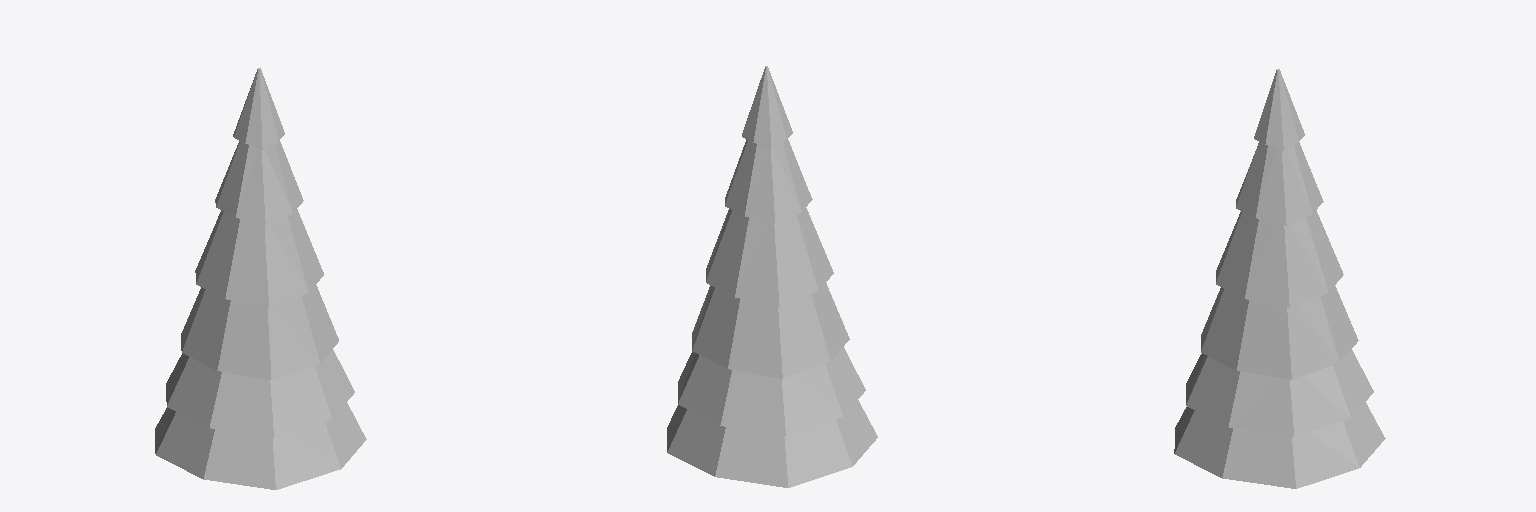
Rendered from toptree.obj.
The picture shows the model from 3 angles: view 1: azimuth 30°, elevation 25°; view 2: azimuth 150°, elevation 25°; view 3: azimuth 270°, elevation 25°; orthographic projection.
Parts seen in each view (by area): view 1: Cylinder.016_Cylinder.006; view 2: Cylinder.016_Cylinder.006; view 3: Cylinder.016_Cylinder.006.
Part boxes in pixels (bbox=[...]): Cylinder.016_Cylinder.006: bbox=[155, 68, 366, 489]; Cylinder.016_Cylinder.006: bbox=[667, 66, 877, 487]; Cylinder.016_Cylinder.006: bbox=[1174, 69, 1385, 488].
Size of the model in its own units: 23.51 by 45.58 by 23.21.